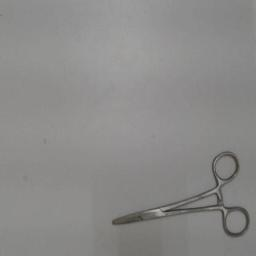Mayo Needle Holder: (107, 145, 253, 243)
